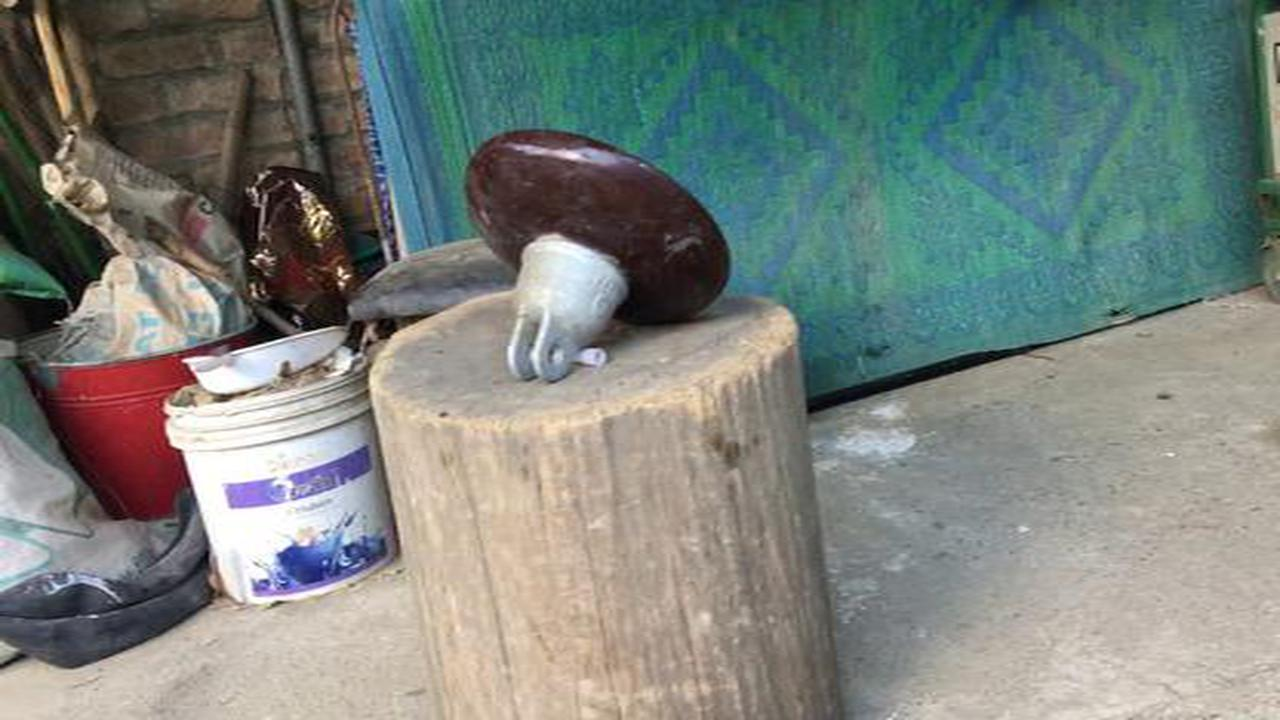insulator_disc: (459, 124, 737, 389)
